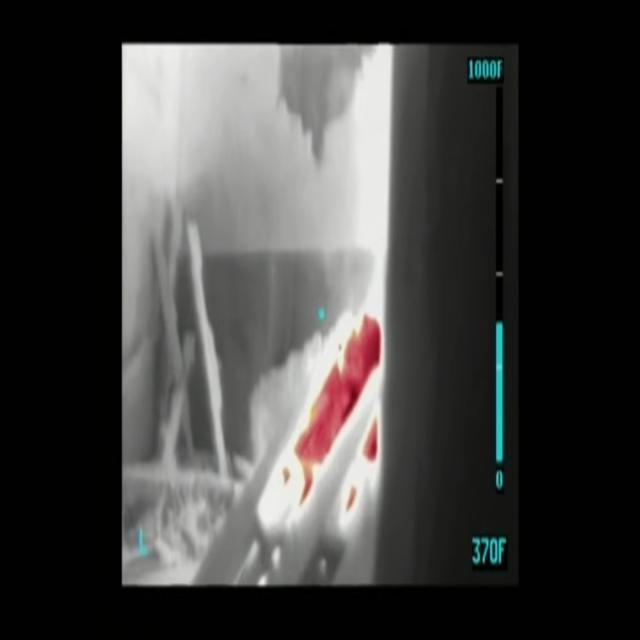fire: (273, 303, 383, 525)
